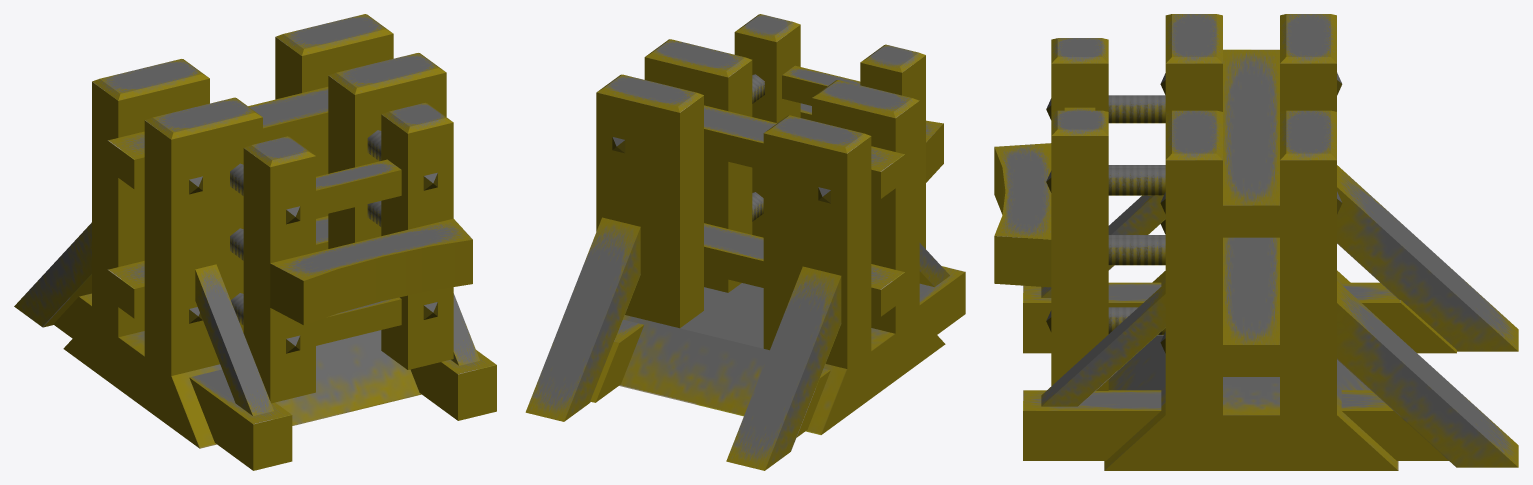
File: SW_PROP_BumperBlock.fbx
3 views of the same model, side by side, from view 1: azimuth 30°, elevation 25°; view 2: azimuth 150°, elevation 25°; view 3: azimuth 270°, elevation 25° (orthographic). The views are drawn at different scales.
Parts seen in each view (by area): view 1: SW_PROP_BumperBlock; view 2: SW_PROP_BumperBlock; view 3: SW_PROP_BumperBlock.
Boxes of the visible parts, <box> form: SW_PROP_BumperBlock: <box>14,14,496,470</box>; SW_PROP_BumperBlock: <box>525,14,965,470</box>; SW_PROP_BumperBlock: <box>994,14,1518,470</box>.
Bounding box in the file's own units: 2.1 × 1.97 × 2.98.
